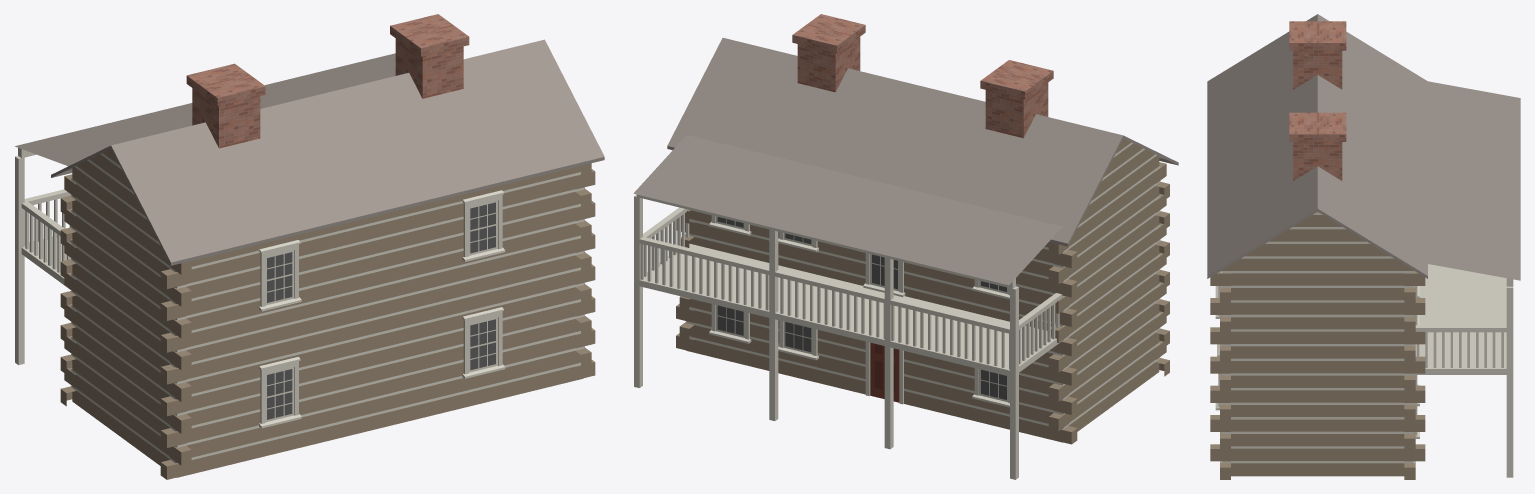
File: first_fort_dearborn_commanding_officers_barracks__first_fort_1803.glb
3 renders of one model, left to right at view 1: azimuth 30°, elevation 25°; view 2: azimuth 150°, elevation 25°; view 3: azimuth 270°, elevation 25°, orthographic. The views are drawn at different scales.
Visible parts, largest first — view 1: first_fort_dearborn_commanding_officers_barracks__first_fort; view 2: first_fort_dearborn_commanding_officers_barracks__first_fort; view 3: first_fort_dearborn_commanding_officers_barracks__first_fort.
Part boxes in pixels (left/top/right/bottom): first_fort_dearborn_commanding_officers_barracks__first_fort: left=15, top=14, right=604, bottom=479; first_fort_dearborn_commanding_officers_barracks__first_fort: left=633, top=14, right=1178, bottom=479; first_fort_dearborn_commanding_officers_barracks__first_fort: left=1207, top=14, right=1520, bottom=479.
Size of the model in its own units: 9.71 by 7.15 by 6.6.
7 materials, 1 textured.
